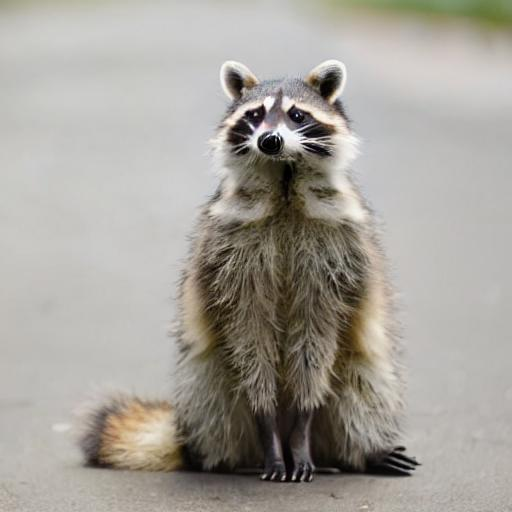raccoon: (88, 56, 391, 476)
